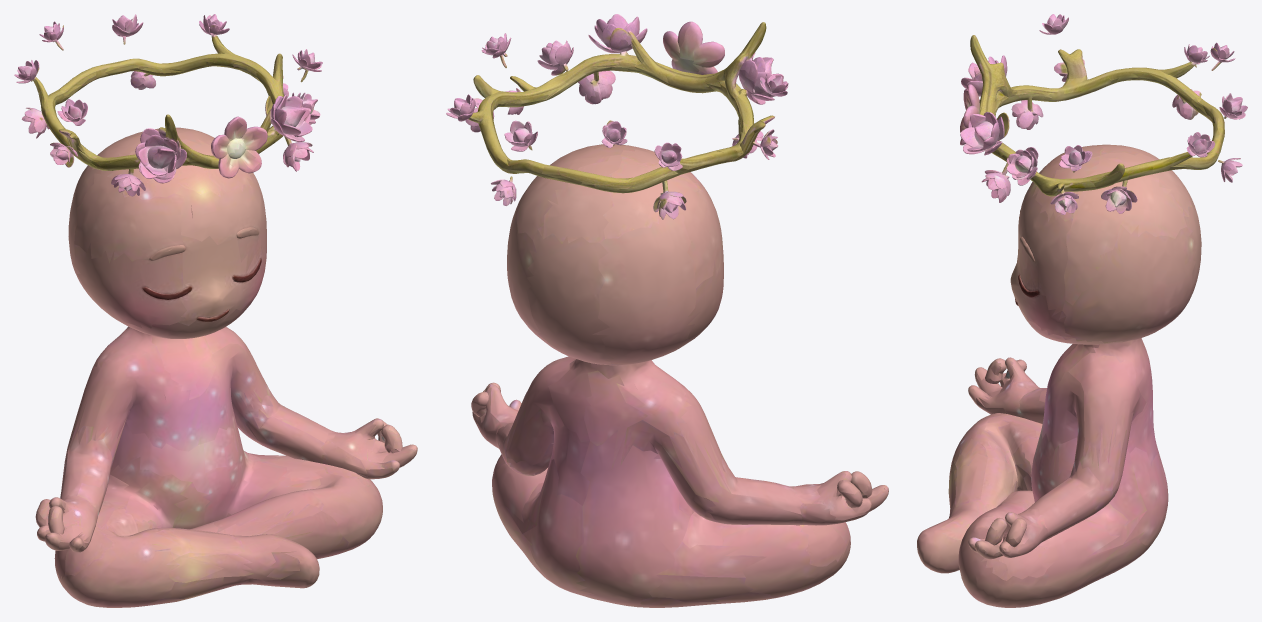
Rendered from yg-baby.glb.
The picture shows the model from 3 angles, left to right: view 1: azimuth 30°, elevation 25°; view 2: azimuth 150°, elevation 25°; view 3: azimuth 270°, elevation 25°; orthographic projection. The views are drawn at different scales.
Visible parts, largest first — view 1: output_unwrapped; view 2: output_unwrapped; view 3: output_unwrapped.
Boxes of the visible parts, x1,y1,x2,y2 form: output_unwrapped: [14, 14, 417, 607]; output_unwrapped: [446, 14, 888, 607]; output_unwrapped: [917, 14, 1247, 607].
Bounding box in the file's own units: 1.51 × 1.9 × 1.18.
1 material, 1 textured.
